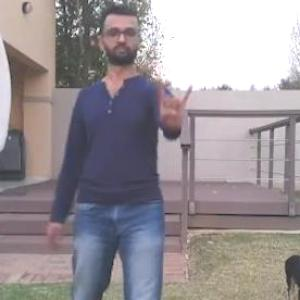takeoff-hand: (156, 69, 202, 136)
